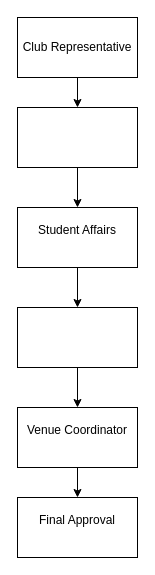
This 155x575 diagram has some shape labels left out. Here are the shapes that lost their labels. From the top down, the centre of each, then its label:
the point at 77,137: Faculty Coordinator
the point at 77,337: Accounts Team
